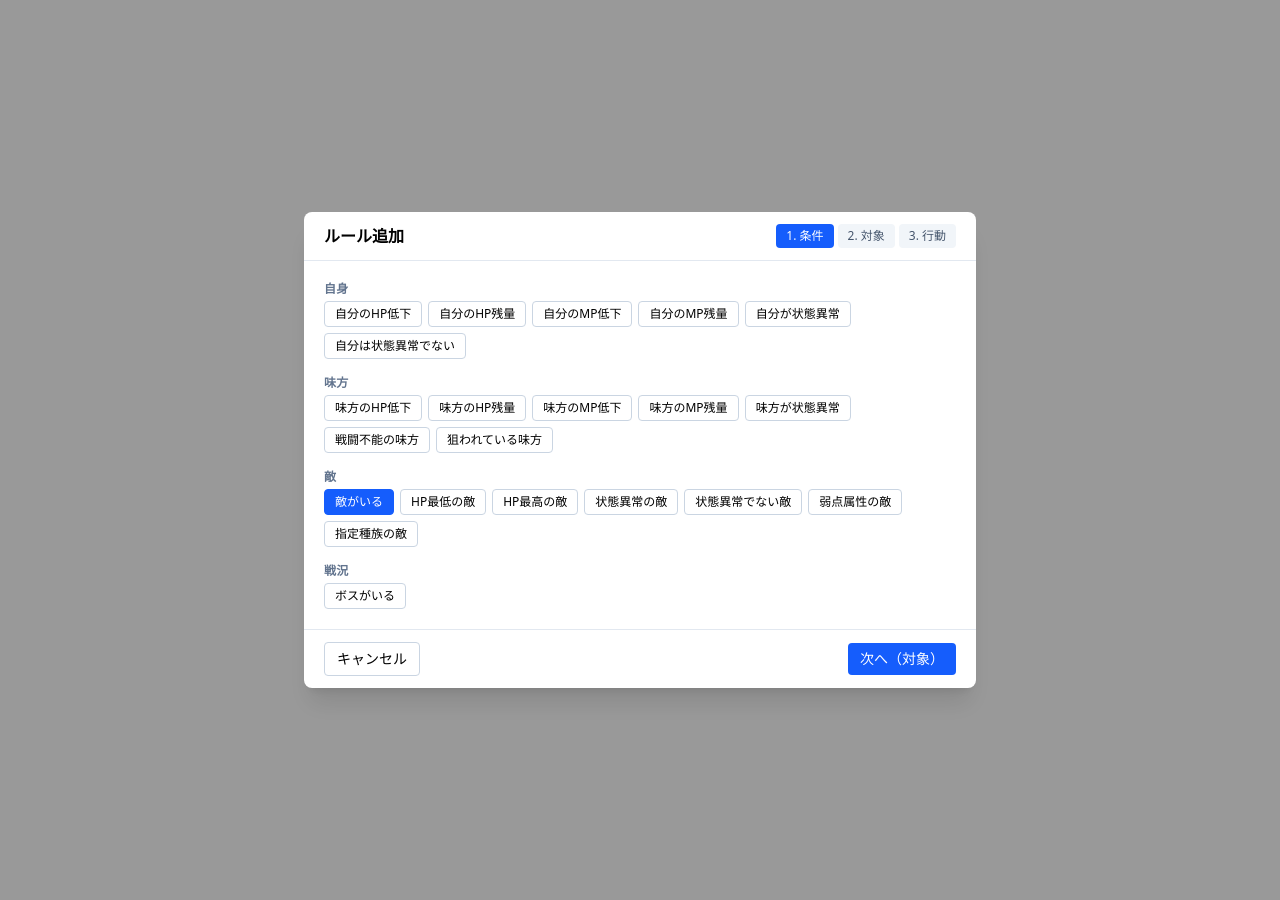
RulePicker - 対象の互換性フィルタ › 条件が ENEMY_EXISTS（デフォルト）のときは ALLY_MATCH が disabled
Click the button "次へ（対象）" at (902, 659), box [848,643,956,675]
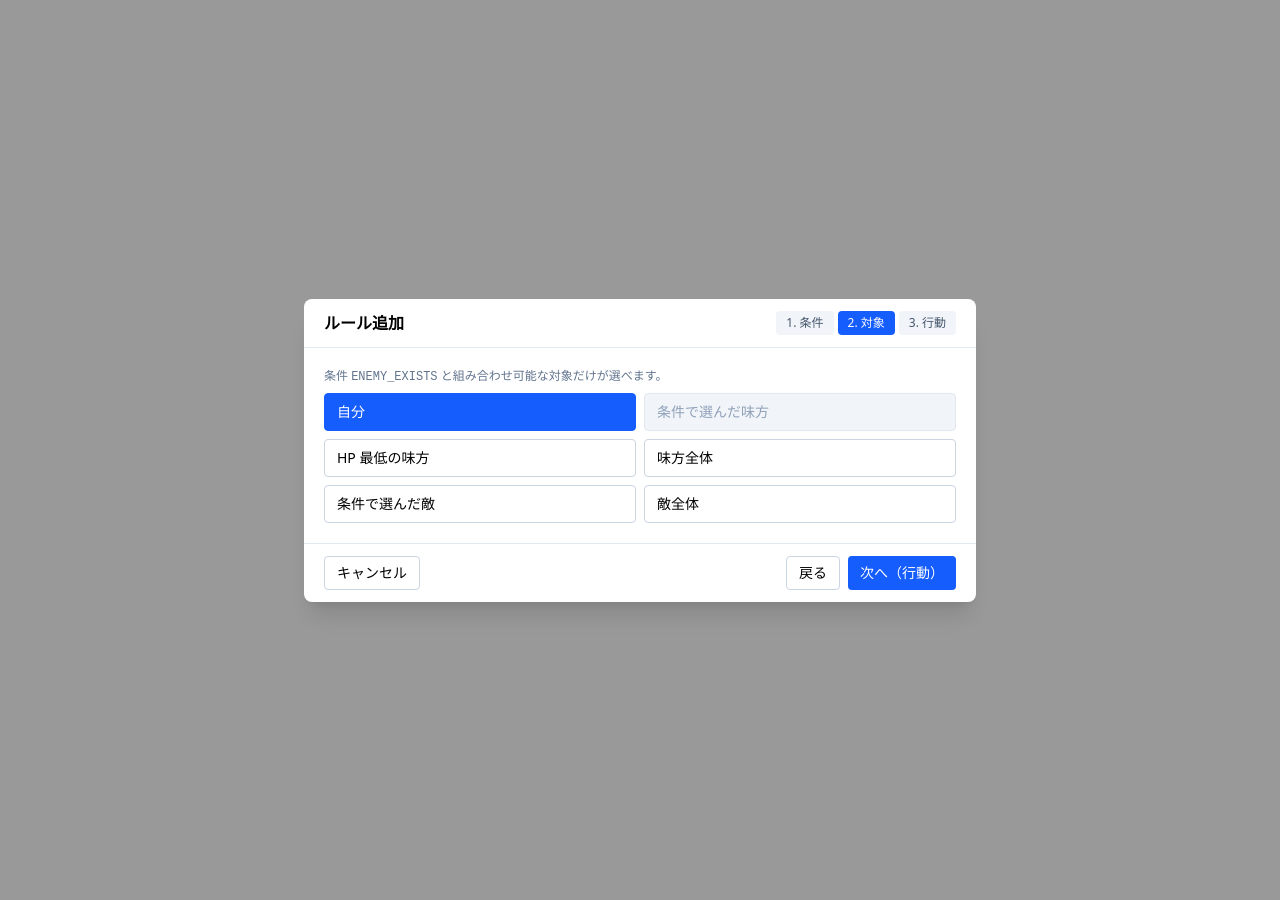
Expected: the button "条件で選んだ味方" is disabled, [644,392,956,430]
Expected: the button "条件で選んだ敵" is enabled, [324,484,636,522]
